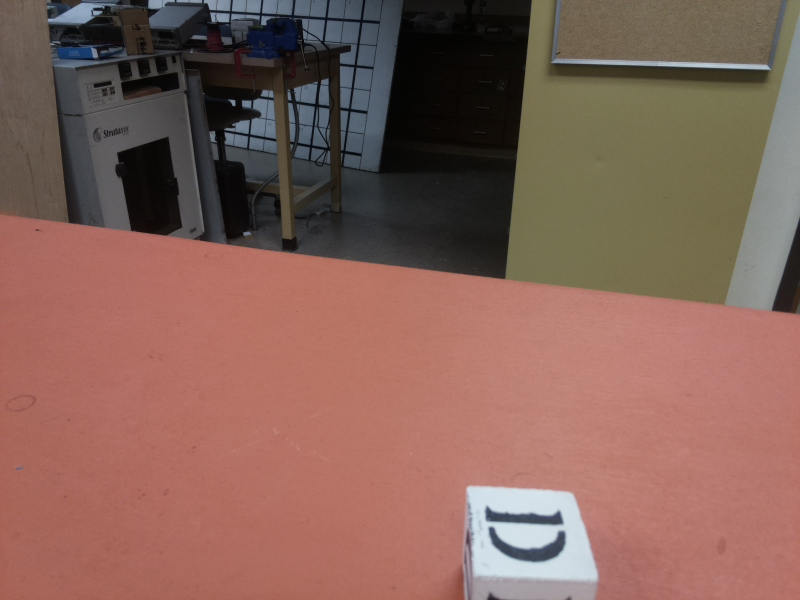blockD: (456, 482, 605, 598)
